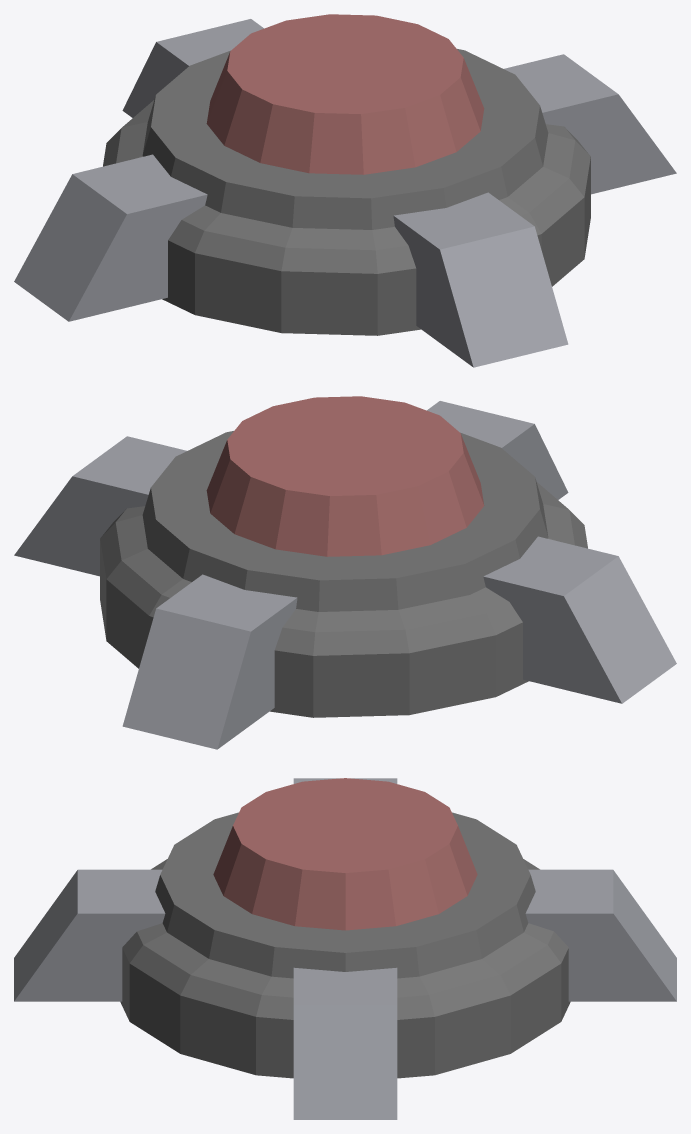
File: p_mine.glb
3 views of the same model, one above another, from view 1: azimuth 30°, elevation 25°; view 2: azimuth 150°, elevation 25°; view 3: azimuth 270°, elevation 25° (orthographic). The views are drawn at different scales.
Visible parts, largest first — view 1: hull; view 2: hull; view 3: hull.
Part boxes in pixels (left/top/right/bottom): hull: left=14, top=14, right=676, bottom=367; hull: left=14, top=396, right=676, bottom=749; hull: left=14, top=778, right=676, bottom=1119.
Size of the model in its own units: 0.35 by 0.0923 by 0.35.
